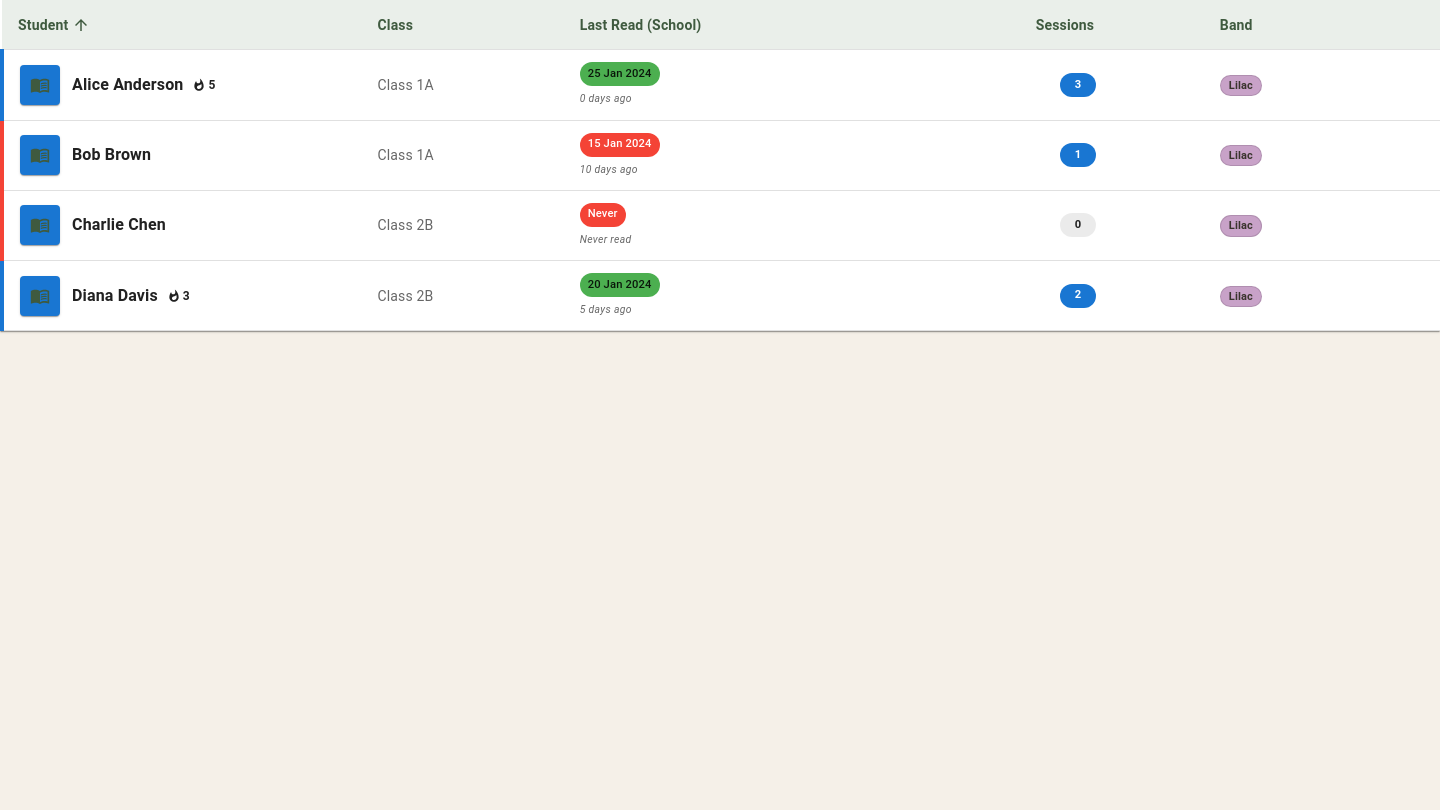
StudentTable Component › Snackbar Behavior › should include student name in snackbar message
// Mark Bob
Click the button named "mark bob brown as reading today": {"x": 40, "y": 155} [20, 135, 60, 175]
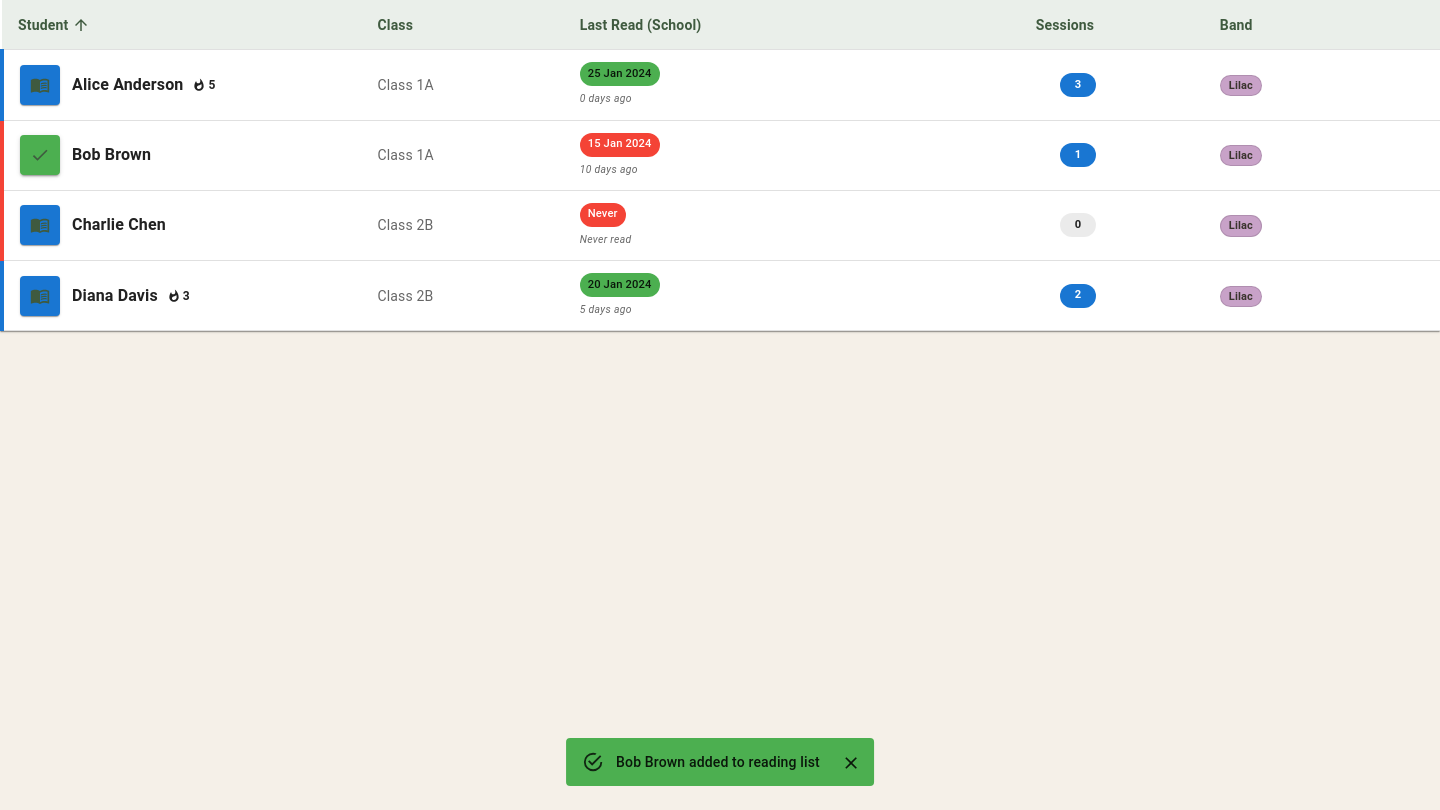
Result: the text "Bob Brown added to reading list" is shown at [616, 754, 820, 770]
